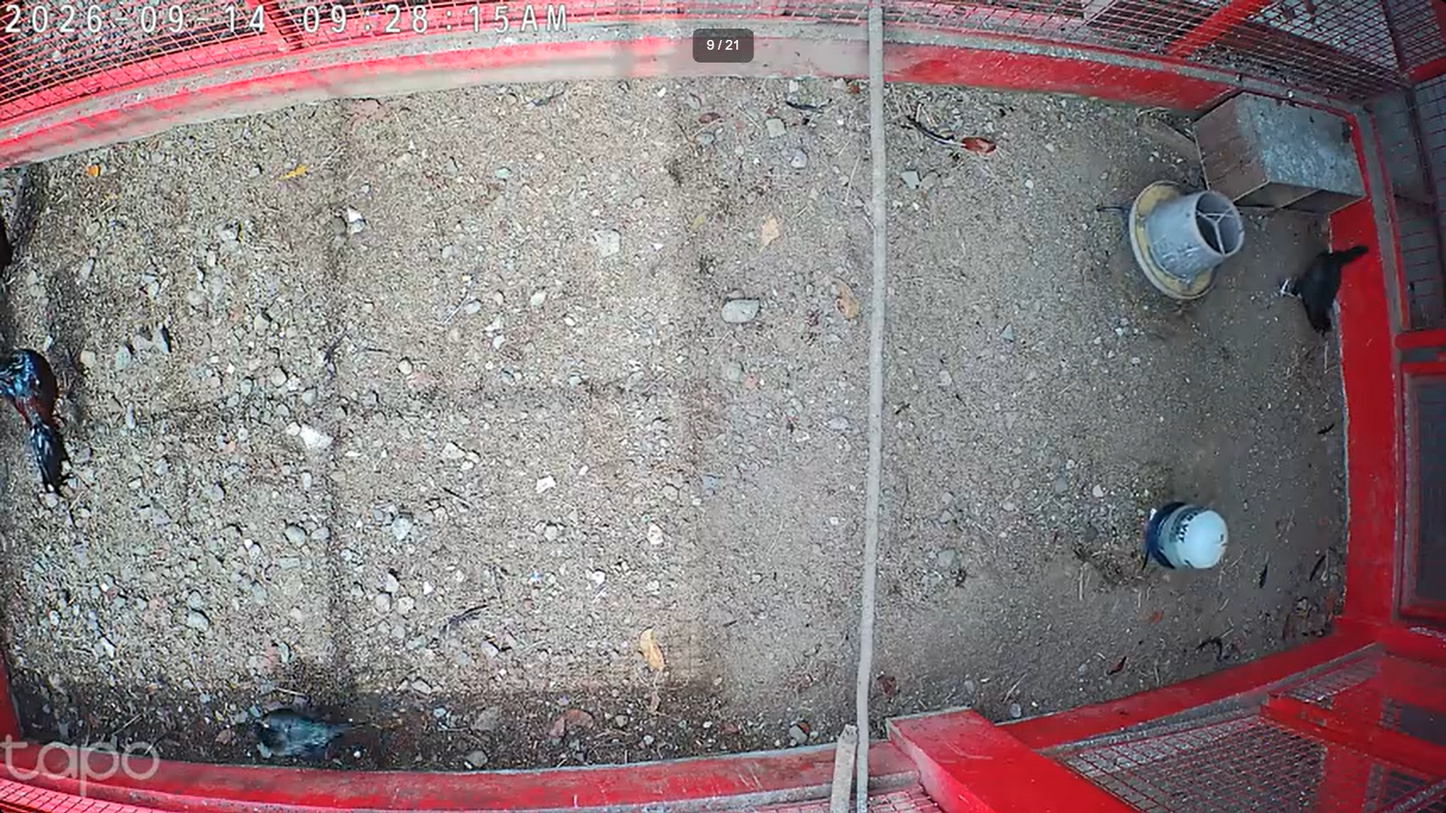Chicken: (1277, 242, 1373, 342), (228, 709, 368, 756)
Rooster: (0, 341, 102, 485)
